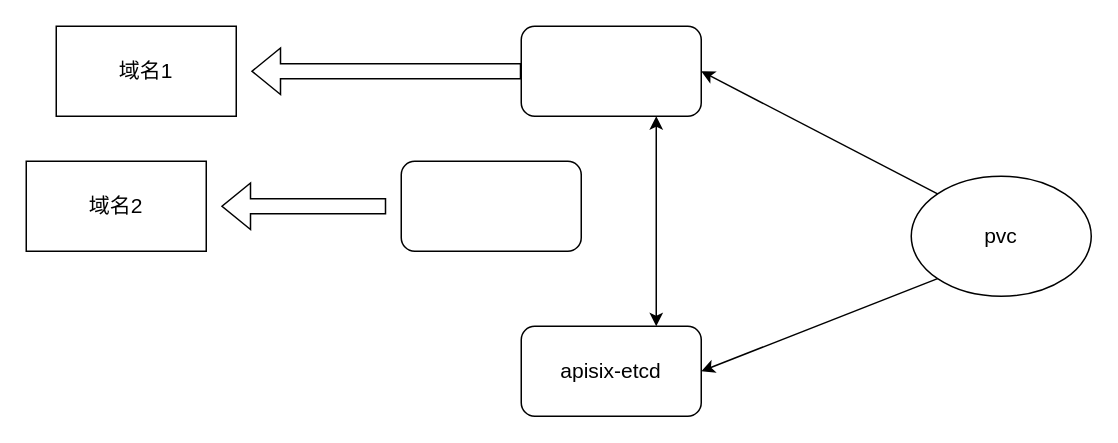
Image size: 1118x443. Some labels were removed from this diagram. Here are the shapes that lost their labels. From the top down, the centre of each, then its label:
At (x=610, y=70): "apisix".
At (x=490, y=205): "apisix-dashboard".
